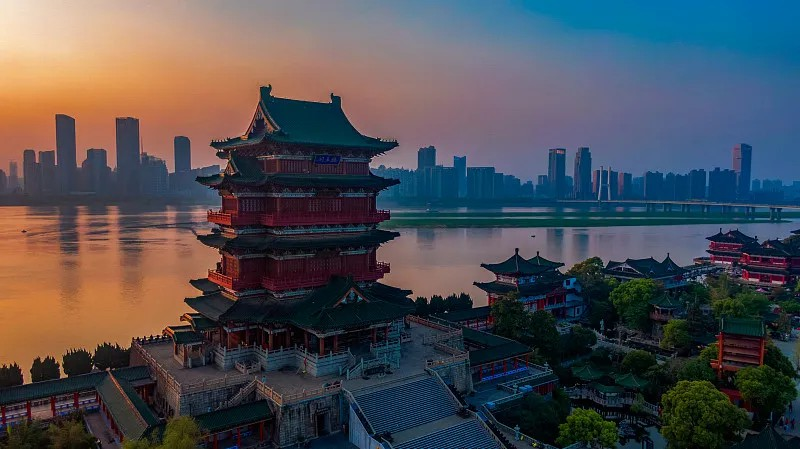Teng: (163, 83, 414, 372)
